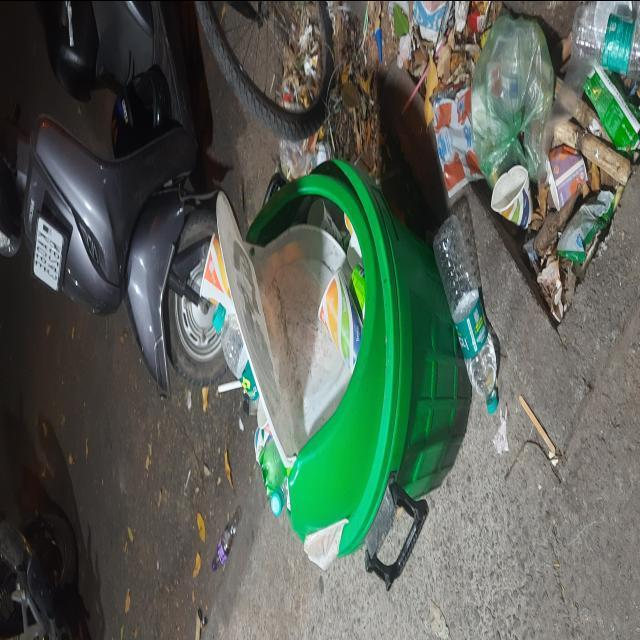Garbage: (199, 0, 640, 556)
Plastic: (271, 487, 285, 514)
Plastic_Bag: (471, 14, 555, 187), (430, 87, 484, 198), (542, 51, 594, 154), (280, 127, 331, 179), (412, 0, 450, 43)
Plastic_Straw: (401, 65, 430, 114)
Plastic_bottle: (434, 214, 498, 414), (572, 3, 640, 80), (212, 303, 259, 406), (259, 438, 286, 495)
Plastic_wraper: (585, 65, 640, 152), (558, 189, 615, 262)
